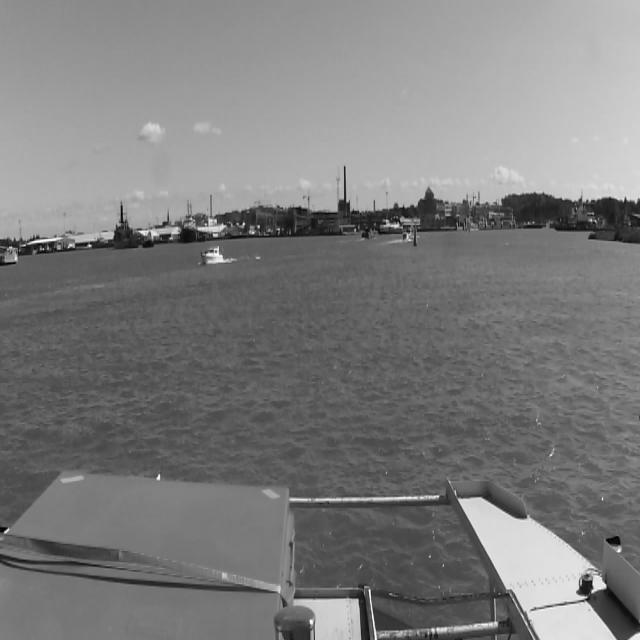buoy: (414, 228, 416, 242)
ship: (553, 204, 603, 230), (112, 202, 138, 249), (200, 244, 222, 265), (379, 217, 403, 233), (400, 228, 410, 242)
